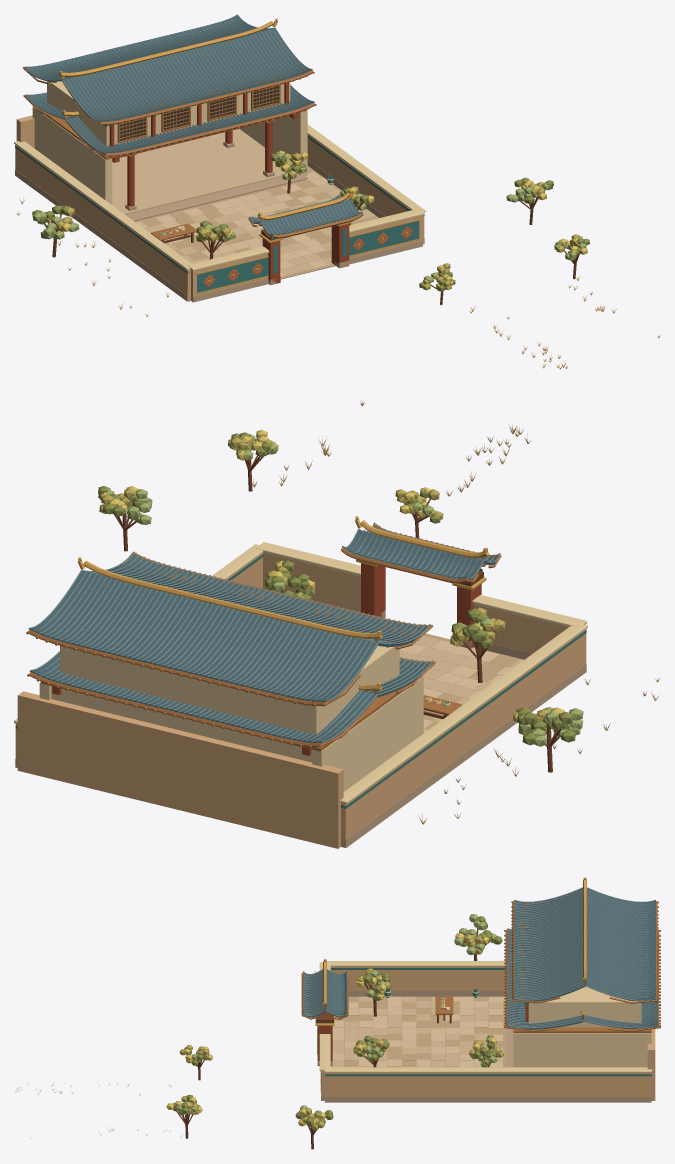
The model's file is courtyard.glb.
The picture shows the model from 3 angles, top to bottom: view 1: azimuth 30°, elevation 25°; view 2: azimuth 150°, elevation 25°; view 3: azimuth 270°, elevation 25°; orthographic projection. The views are drawn at different scales.
Visible parts, largest first — view 1: courtyard-blue-grey-ceramic, courtyard-tile-edge, courtyard-paving-cream, courtyard-warm-sand-plaster, courtyard-sunwashed-plaster, courtyard-sunlit-wood, courtyard-linen, courtyard-warm-limestone, courtyard-paving-sand, courtyard-mineral-teal, courtyard-paving-light, courtyard-ochre-decoration (+8 smaller); view 2: courtyard-warm-sand-plaster, courtyard-blue-grey-ceramic, courtyard-sunwashed-plaster, courtyard-tile-edge, courtyard-linen, courtyard-sunlit-wood, courtyard-ochre-decoration, courtyard-leaf-olive, courtyard-warm-limestone, courtyard-leaf-sage, courtyard-paving-cream, courtyard-aged-vermilion (+6 smaller); view 3: courtyard-tile-edge, courtyard-blue-grey-ceramic, courtyard-warm-sand-plaster, courtyard-sunwashed-plaster, courtyard-paving-sand, courtyard-paving-light, courtyard-linen, courtyard-paving-cream, courtyard-warm-limestone, courtyard-sunlit-wood, courtyard-leaf-olive, courtyard-mineral-teal (+5 smaller).
Boxes of the visible parts, left/top/right/bottom form: courtyard-blue-grey-ceramic: left=26, top=15, right=362, bottom=235; courtyard-tile-edge: left=24, top=14, right=362, bottom=235; courtyard-paving-cream: left=112, top=129, right=375, bottom=274; courtyard-warm-sand-plaster: left=15, top=115, right=424, bottom=301; courtyard-sunwashed-plaster: left=32, top=81, right=307, bottom=204; courtyard-sunlit-wood: left=23, top=15, right=363, bottom=240; courtyard-linen: left=14, top=124, right=425, bottom=271; courtyard-warm-limestone: left=15, top=141, right=424, bottom=302; courtyard-paving-sand: left=134, top=166, right=378, bottom=279; courtyard-mineral-teal: left=15, top=116, right=424, bottom=292; courtyard-paving-light: left=136, top=172, right=366, bottom=276; courtyard-ochre-decoration: left=17, top=18, right=659, bottom=369; courtyard-warm-sand-plaster: left=15, top=553, right=586, bottom=848; courtyard-blue-grey-ceramic: left=30, top=526, right=496, bottom=742; courtyard-sunwashed-plaster: left=39, top=646, right=423, bottom=791; courtyard-tile-edge: left=28, top=522, right=500, bottom=742; courtyard-linen: left=14, top=542, right=587, bottom=804; courtyard-sunlit-wood: left=26, top=524, right=501, bottom=751; courtyard-ochre-decoration: left=77, top=400, right=659, bottom=824; courtyard-leaf-olive: left=98, top=432, right=575, bottom=745; courtyard-warm-limestone: left=15, top=588, right=586, bottom=847; courtyard-leaf-sage: left=103, top=434, right=583, bottom=746; courtyard-paving-cream: left=399, top=636, right=523, bottom=722; courtyard-aged-vermilion: left=52, top=563, right=481, bottom=755; courtyard-tile-edge: left=303, top=887, right=657, bottom=1028; courtyard-blue-grey-ceramic: left=303, top=887, right=657, bottom=1029; courtyard-warm-sand-plaster: left=321, top=967, right=655, bottom=1100; courtyard-sunwashed-plaster: left=513, top=986, right=651, bottom=1067; courtyard-paving-sand: left=332, top=996, right=505, bottom=1067; courtyard-paving-light: left=330, top=996, right=505, bottom=1067; courtyard-linen: left=319, top=961, right=652, bottom=1072; courtyard-paving-cream: left=332, top=996, right=502, bottom=1067; courtyard-warm-limestone: left=317, top=991, right=651, bottom=1102; courtyard-sunlit-wood: left=301, top=901, right=660, bottom=1032; courtyard-leaf-olive: left=175, top=916, right=502, bottom=1126; courtyard-mineral-teal: left=315, top=968, right=651, bottom=1090.
Bounding box in the file's own units: 37.76 × 10.63 × 51.53.
